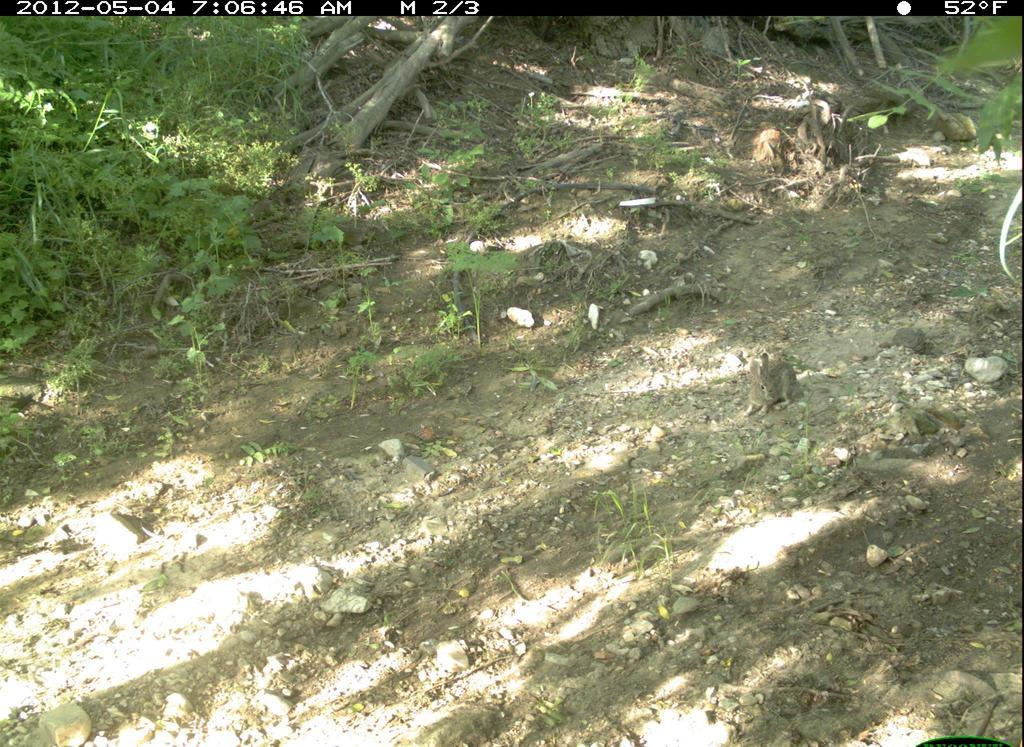rabbit: (739, 351, 806, 419)
